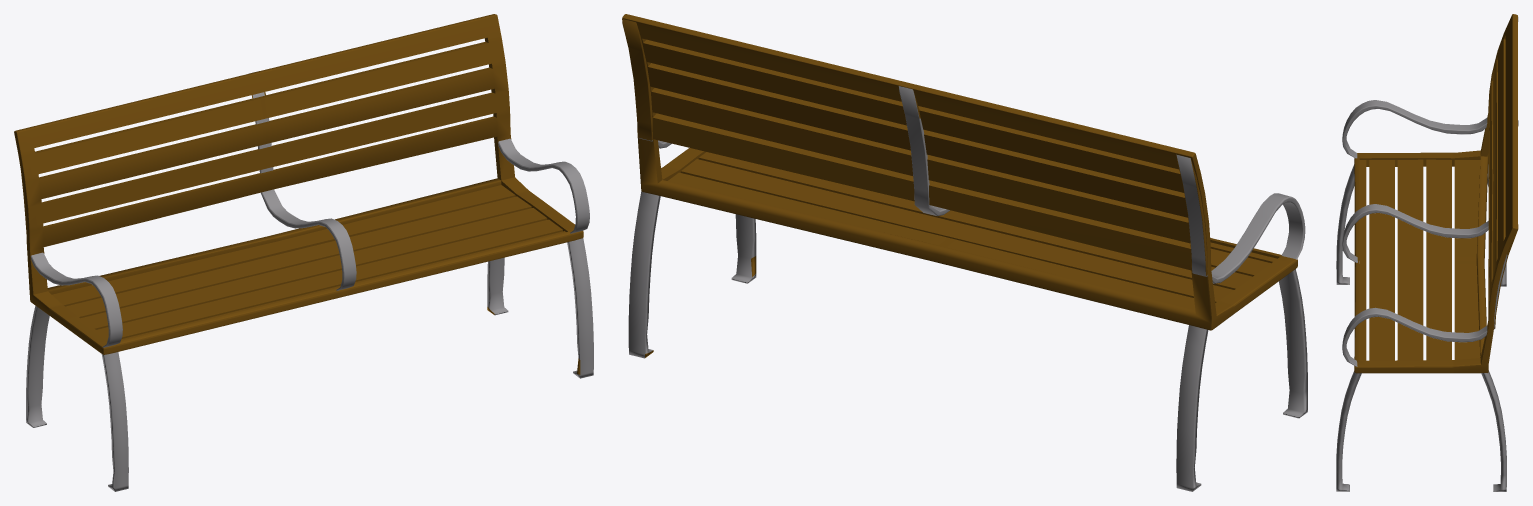
Rendered from kursi.fbx.
3 views of the same model, side by side, from view 1: azimuth 30°, elevation 25°; view 2: azimuth 150°, elevation 25°; view 3: azimuth 270°, elevation 25° (orthographic). The views are drawn at different scales.
Visible parts, largest first — view 1: Bench_ToTexture; view 2: Bench_ToTexture; view 3: Bench_ToTexture.
Part boxes in pixels (x1,y1,x2,y2): Bench_ToTexture: [14, 14, 593, 491]; Bench_ToTexture: [622, 14, 1307, 491]; Bench_ToTexture: [1336, 14, 1518, 491].
Bounding box in the file's own units: 417 × 239 × 150.
